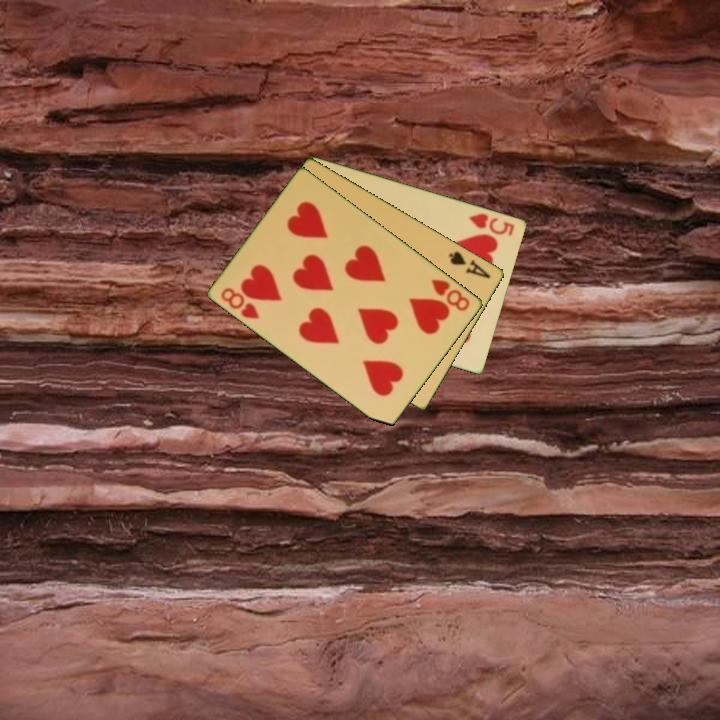5h: (466, 209, 518, 239)
8h: (428, 275, 473, 314), (218, 284, 263, 322)
As: (445, 247, 494, 282)
